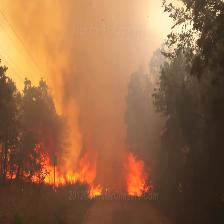fire: (0, 129, 175, 210)
smoke: (0, 0, 196, 126)
